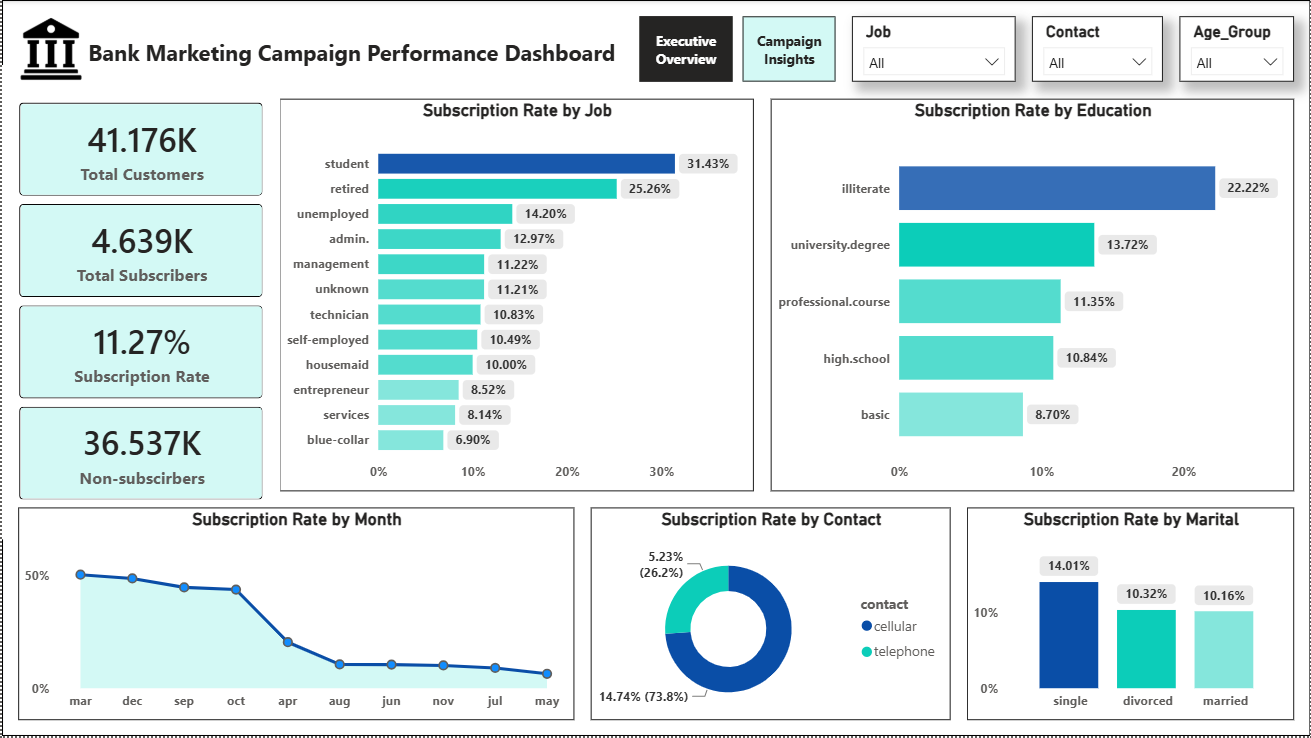

Layout of this report page (visuals, bound fields, positions):
{"tool":"powerbi","page":{"name":"Executive Overview","canvas":[1280,720],"ordinal":0},"visuals":[{"type":"shape","box":[0,0,1280,720],"z":0},{"type":"clusteredBarChart","title":"Subscription Rate by Job","fields":{"Y":["Measure.Subscription Rate"],"Category":["bank_marketing.job"]},"box":[272,96,464,384],"z":1000},{"type":"slicer","fields":{"Values":["bank_marketing.job"]},"box":[832,16,160,64],"z":2000},{"type":"slicer","fields":{"Values":["bank_marketing.contact"]},"box":[1008,16,128,64],"z":3000},{"type":"slicer","fields":{"Values":["bank_marketing.age_group"]},"box":[1152,16,112,64],"z":4000},{"type":"cardVisual","fields":{"Data":["Measure.Total Customers","Measure.Total Subscribers","Measure.Subscription Rate","Measure.Non-subscirbers"]},"box":[0,64,272,464],"z":5000},{"type":"barChart","title":"Subscription Rate by Education","fields":{"Category":["bank_marketing.education"],"Y":["Measure.Subscription Rate"]},"box":[752,96,512,384],"z":6000},{"type":"clusteredColumnChart","title":"Subscription Rate by Marital","fields":{"Y":["Measure.Subscription Rate"],"Category":["bank_marketing.marital"]},"box":[944,496,320,208],"z":7000},{"type":"donutChart","title":"Subscription Rate by Contact","fields":{"Category":["bank_marketing.contact"],"Y":["Measure.Subscription Rate"]},"box":[576,496,352,208],"z":8000},{"type":"areaChart","title":"Subscription Rate by Month","fields":{"Category":["bank_marketing.month"],"Y":["Measure.Subscription Rate"]},"box":[16,496,544,208],"z":9000},{"type":"textbox","box":[80,32,528,48],"z":10000},{"type":"image","box":[0,16,96,64],"z":11000},{"type":"pageNavigator","box":[624,16,192,64],"z":12000}]}

Visuals, with their boxes in screenshot pixels (x1, y1, x2, y2), scaled from the page's 1280x720 canvas onto the 1311x738 screenshot:
shape: region(0, 0, 1310, 737)
"Subscription Rate by Job" clusteredBarChart: region(279, 98, 754, 492)
slicer - bank_marketing.job: region(852, 16, 1016, 82)
slicer - bank_marketing.contact: region(1032, 16, 1164, 82)
slicer - bank_marketing.age_group: region(1180, 16, 1295, 82)
cardVisual - Measure.Total Customers x Measure.Total Subscribers: region(0, 66, 279, 541)
"Subscription Rate by Education" barChart: region(770, 98, 1295, 492)
"Subscription Rate by Marital" clusteredColumnChart: region(967, 508, 1295, 722)
"Subscription Rate by Contact" donutChart: region(590, 508, 950, 722)
"Subscription Rate by Month" areaChart: region(16, 508, 574, 722)
textbox: region(82, 33, 623, 82)
image: region(0, 16, 98, 82)
pageNavigator: region(639, 16, 836, 82)
